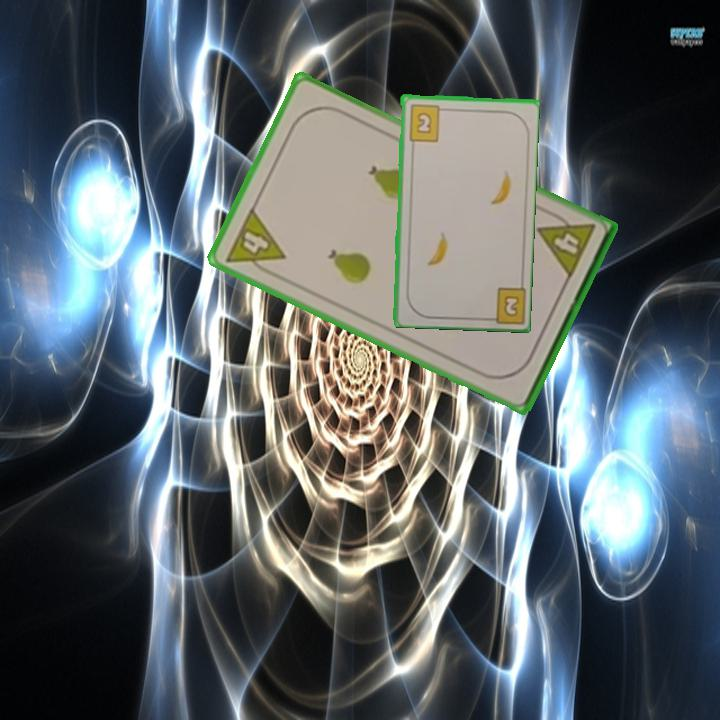2b: (481, 282, 527, 324), (405, 101, 448, 144)
4p: (222, 204, 288, 281), (533, 207, 598, 282)
